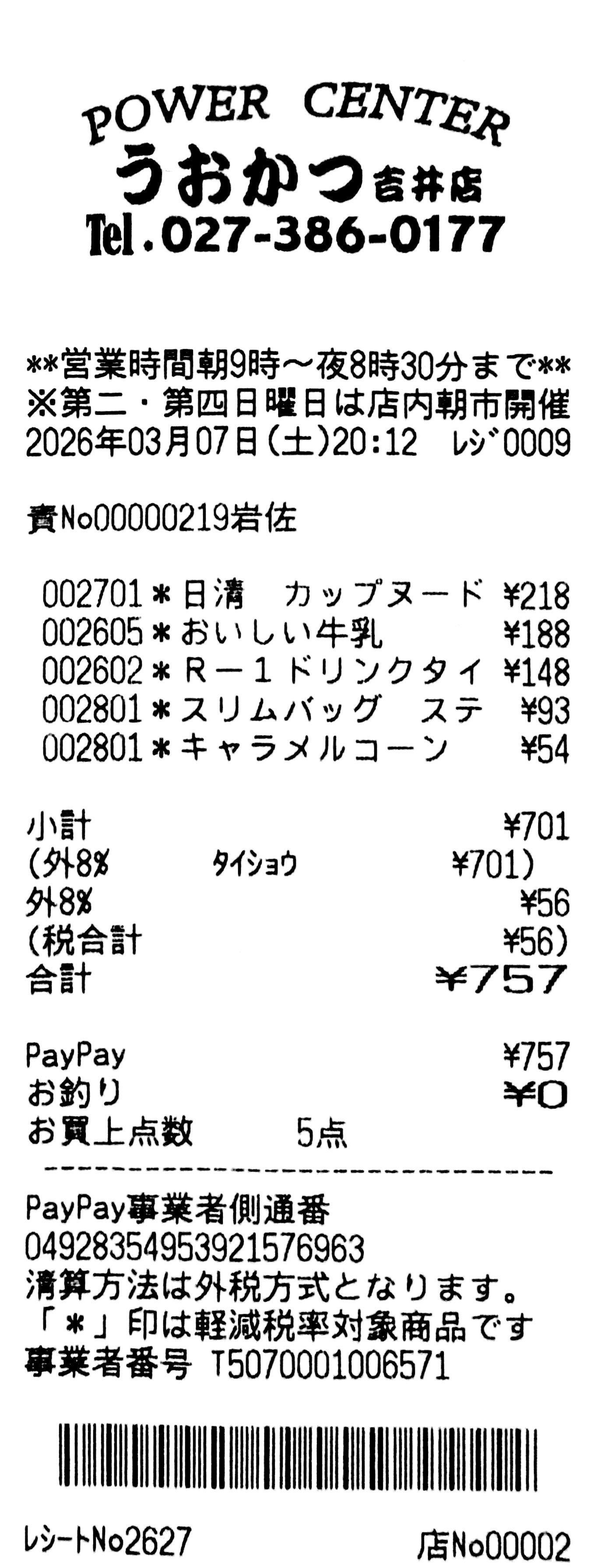Date: (26, 426, 257, 458)
Pay: (26, 961, 568, 997)
Shopname: (116, 142, 364, 206)
Telnum: (160, 215, 507, 253)
